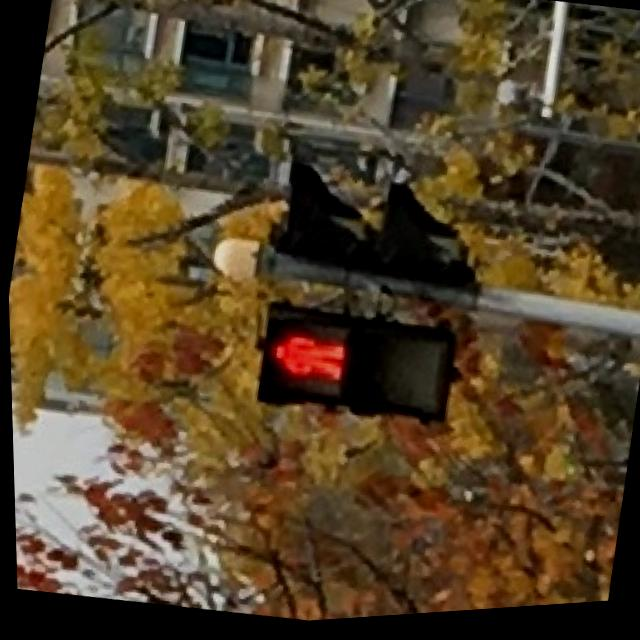red_light: (253, 309, 351, 410)
